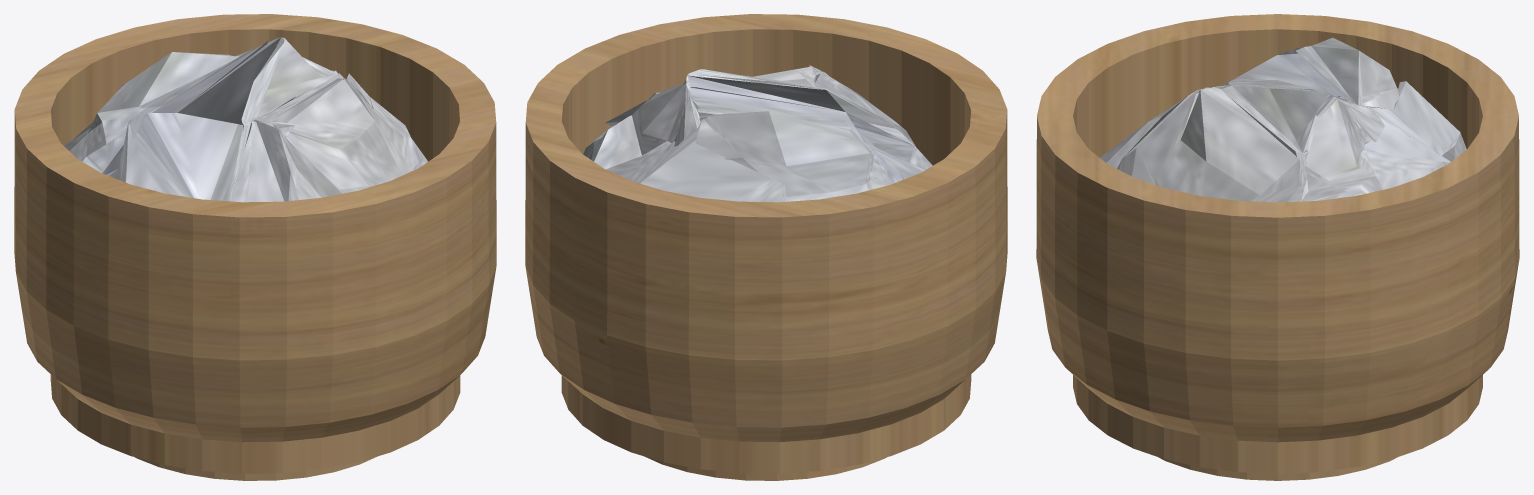
Rendered from Gula.fbx.
The picture shows the model from 3 angles, left to right: view 1: azimuth 30°, elevation 25°; view 2: azimuth 150°, elevation 25°; view 3: azimuth 270°, elevation 25°; orthographic projection.
Visible parts, largest first — view 1: Cylinder, Sphere; view 2: Cylinder, Sphere; view 3: Cylinder, Sphere.
Boxes of the visible parts, x1=… form: Cylinder: x1=14, y1=14, x2=496, y2=480; Sphere: x1=64, y1=37, x2=427, y2=202; Cylinder: x1=525, y1=14, x2=1007, y2=480; Sphere: x1=583, y1=65, x2=932, y2=202; Cylinder: x1=1036, y1=14, x2=1519, y2=480; Sphere: x1=1100, y1=37, x2=1466, y2=202.
Bounding box in the file's own units: 306 × 242 × 306.
